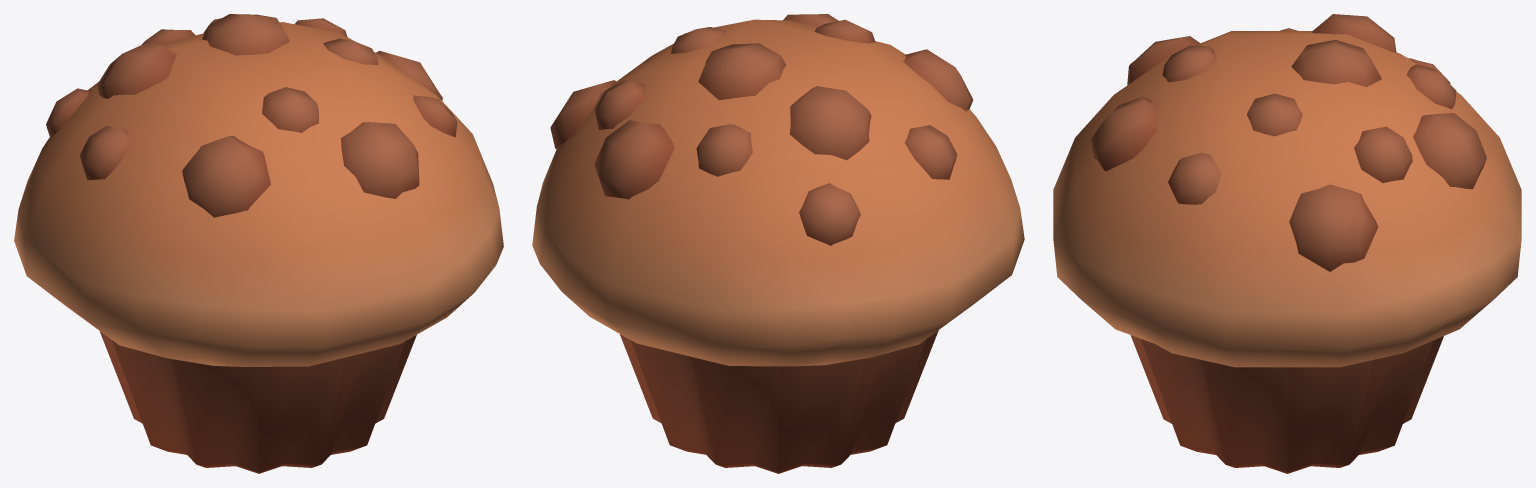
Rendered from muffin.obj.
3 views of the same model, side by side, from view 1: azimuth 30°, elevation 25°; view 2: azimuth 150°, elevation 25°; view 3: azimuth 270°, elevation 25° (orthographic).
Visible parts, largest first — view 1: muffin; view 2: muffin; view 3: muffin.
Part boxes in pixels (bbox=[...]): muffin: bbox=[14, 14, 503, 473]; muffin: bbox=[532, 14, 1024, 473]; muffin: bbox=[1053, 14, 1521, 473].
Bounding box in the file's own units: 0.3811 × 0.3501 × 0.3809.
1 material, 1 textured.
